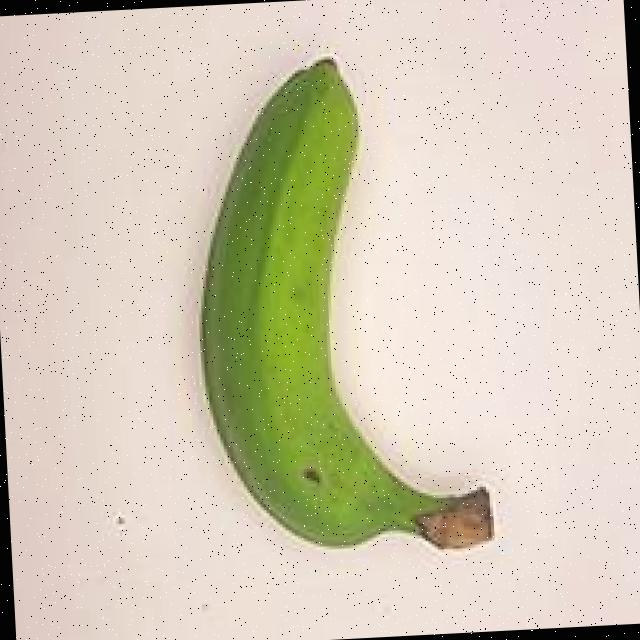Unripe: (150, 31, 532, 592)
